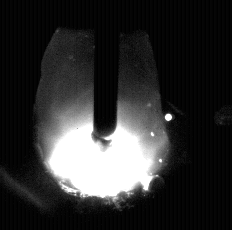arame: (94, 0, 118, 146)
poca: (38, 0, 171, 230)
